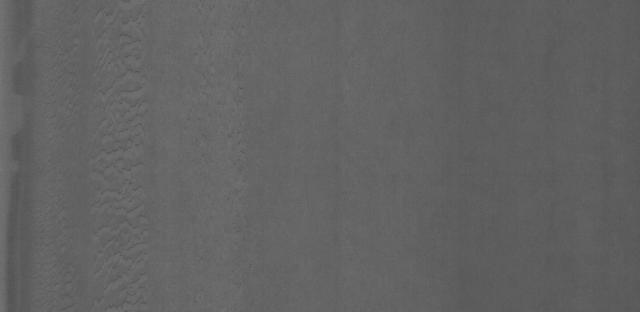silk_spot: (74, 18, 164, 284)
